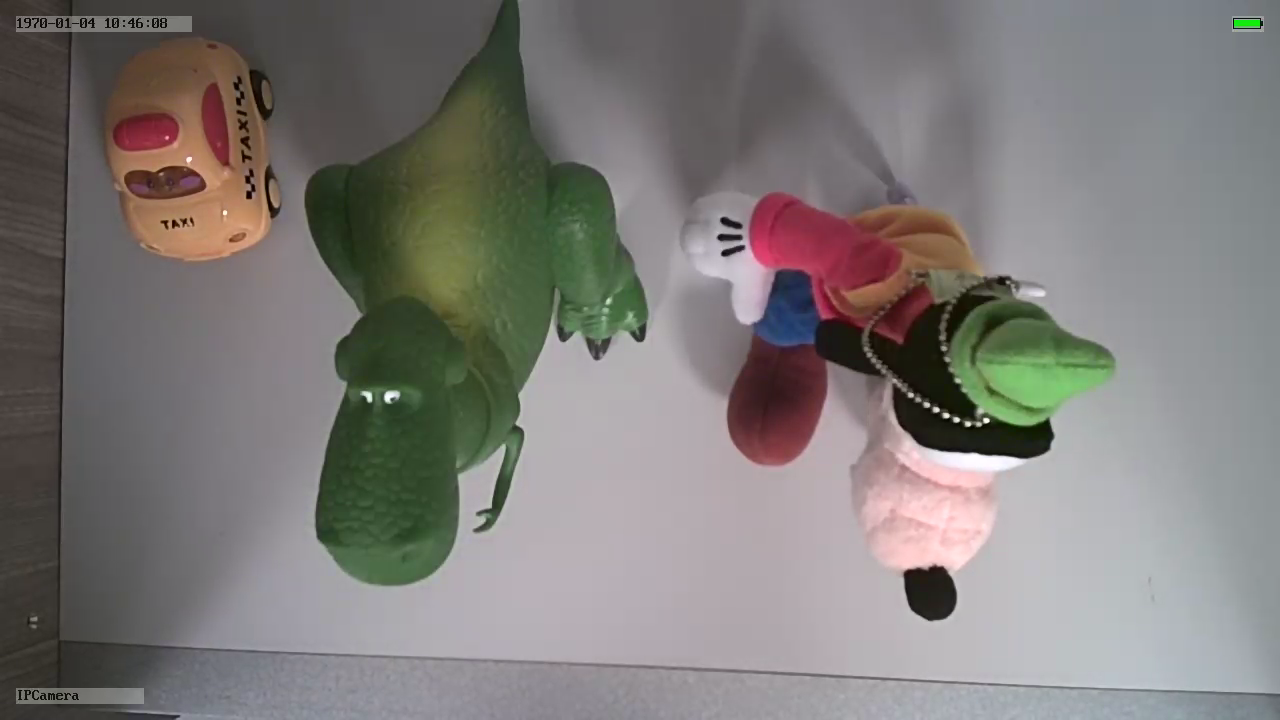goofy: (667, 181, 1124, 624)
